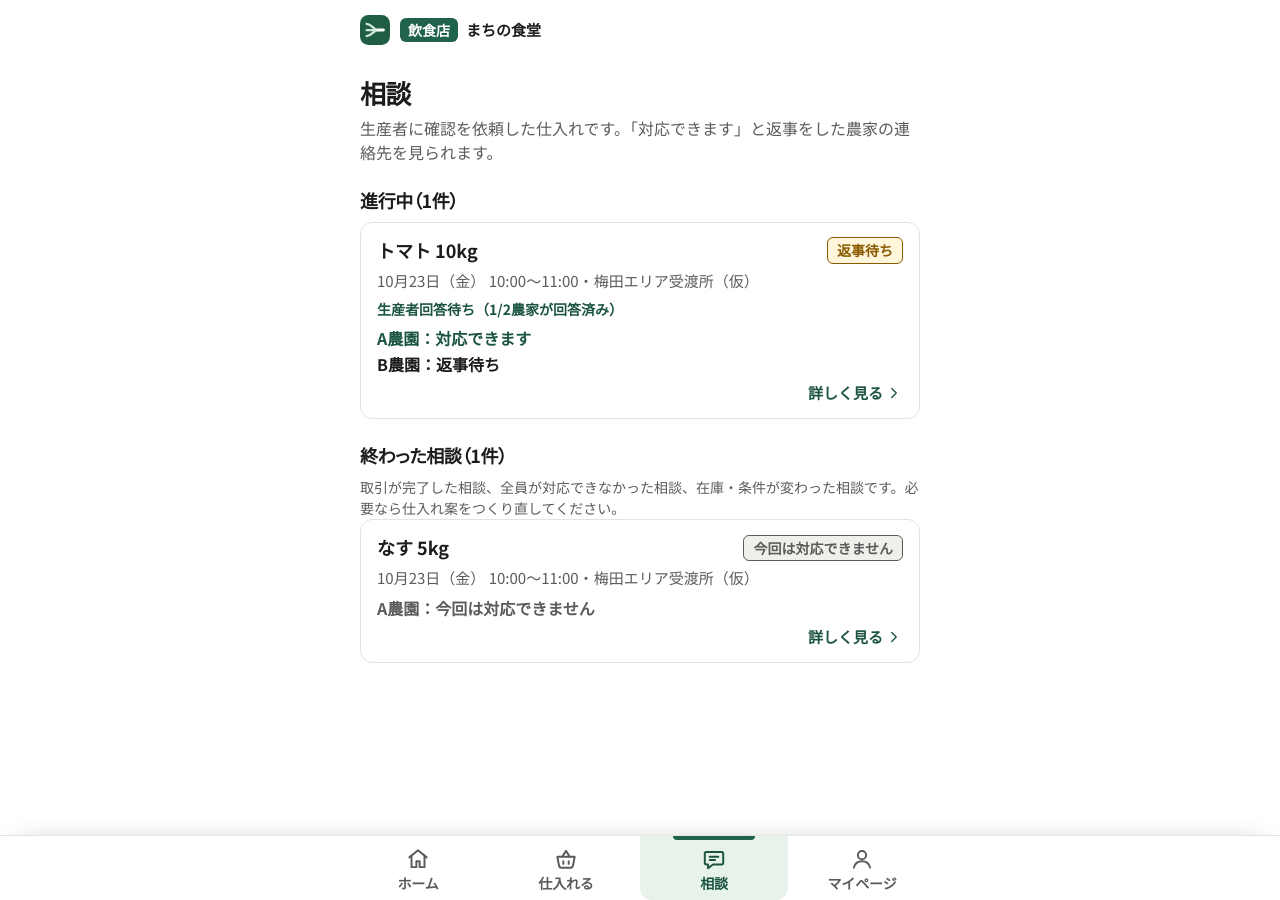
Test: 飲食店の相談一覧・詳細 › 相談を仕入れ案ごとにまとめ、詳細では対応できる農家だけ連絡先を見られる
The width and height of the screenshot is (1280, 900).
What coordinates should you click on to do the following:
click the link to "/restaurant/consultations/fp-1"
I would click on:
 (404, 250)
Its box is [360,222,920,419].
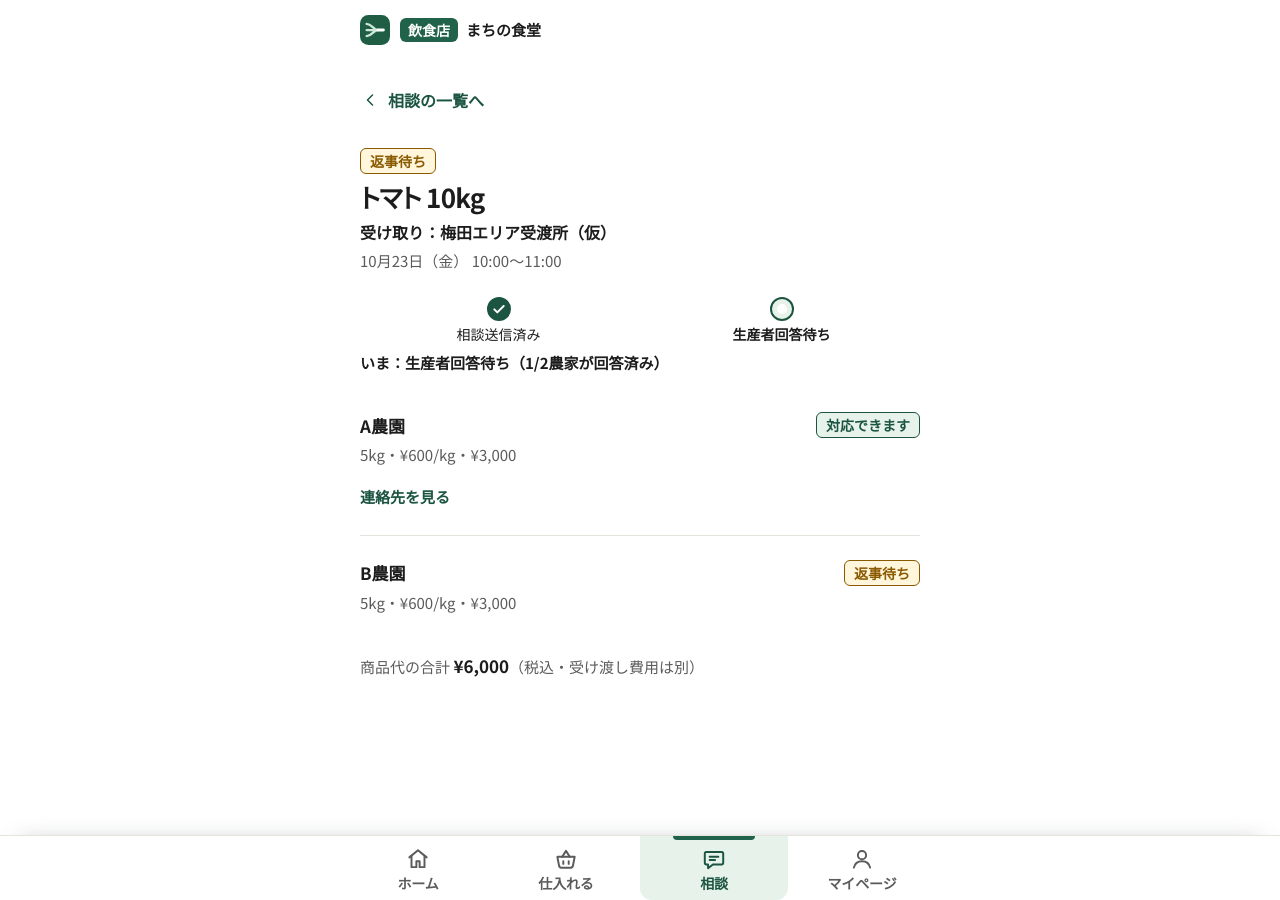
Result: the heading "トマト 10kg" is shown at [360,178,484,215]
Result: the list item with class "farm-row" shows "連絡先を見る"
Result: the button "連絡先を見る" is shown
What coordinates should you click on to do the following:
click the button "連絡先を見る"
I would click on:
 (405, 497)
Its box is [348,473,462,521].
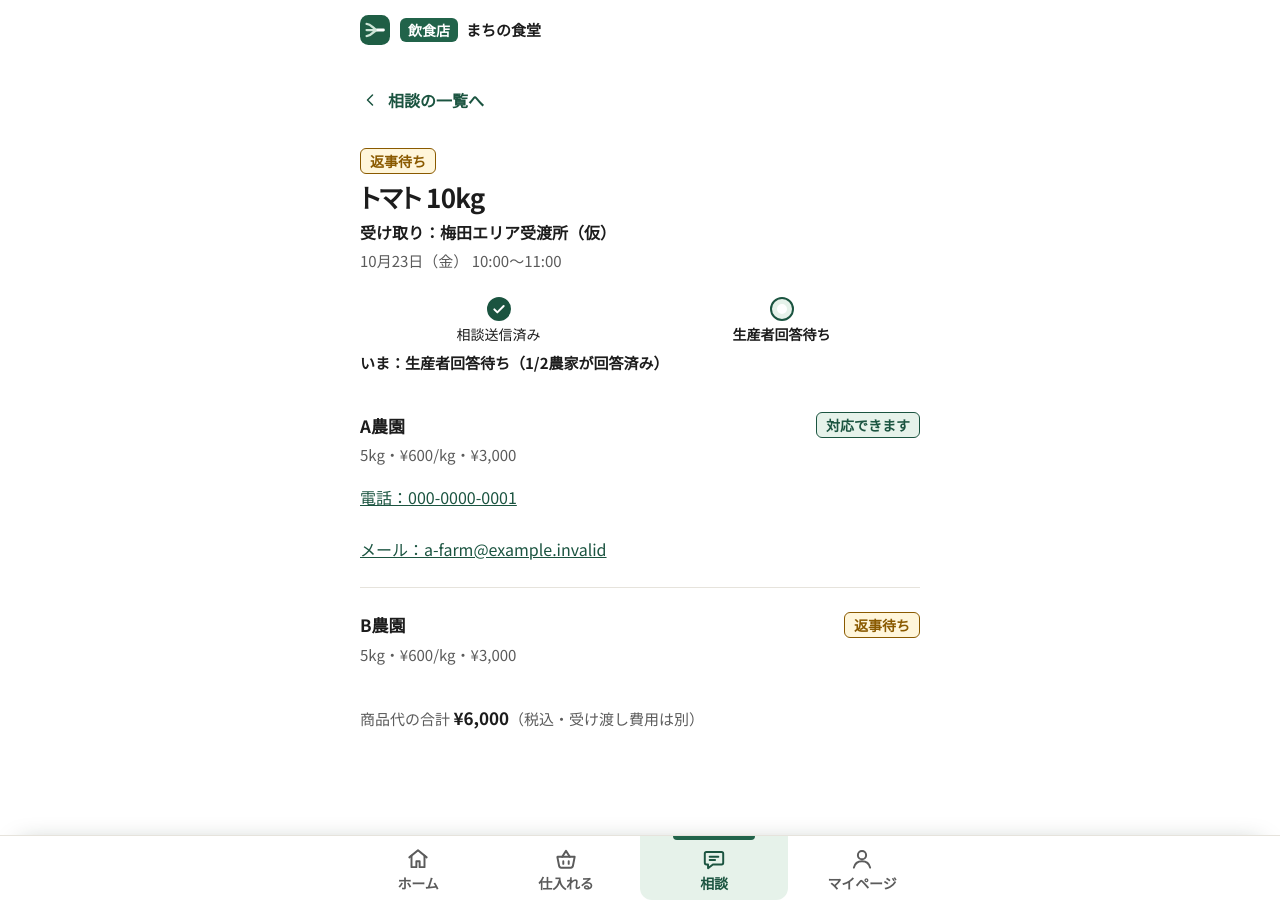
Expected: the link "相談" is shown, [640,836,788,899]
Result: the element with class "contact-details" shows "000-0000-0001" at [360,473,920,521]
Result: the link to "tel:00000000001" is shown at [360,485,517,509]
